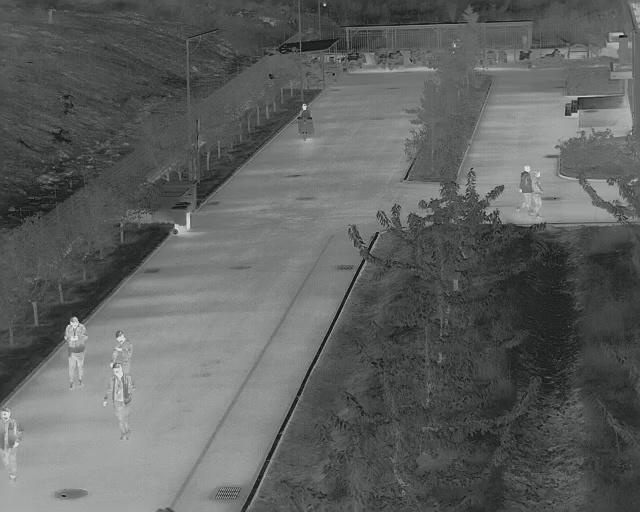NonMotorVehicle: (296, 102, 314, 143)
person: (102, 362, 135, 443), (64, 315, 89, 390), (1, 406, 25, 483), (106, 328, 134, 367), (514, 161, 533, 215), (532, 168, 548, 220)
